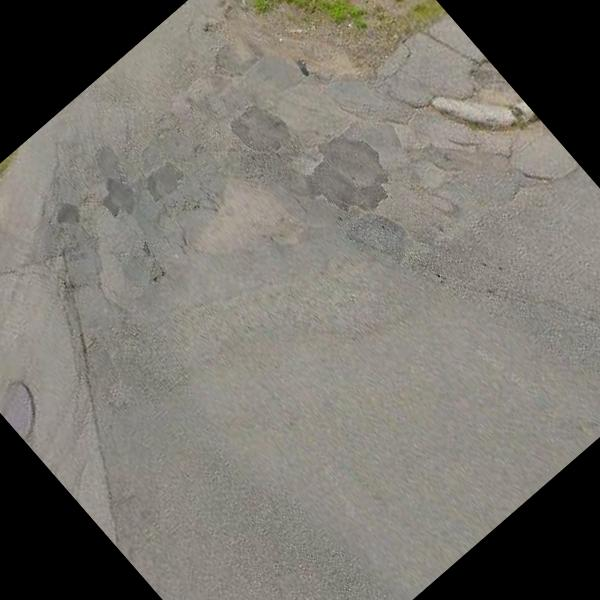manhole: (0, 360, 73, 457)
